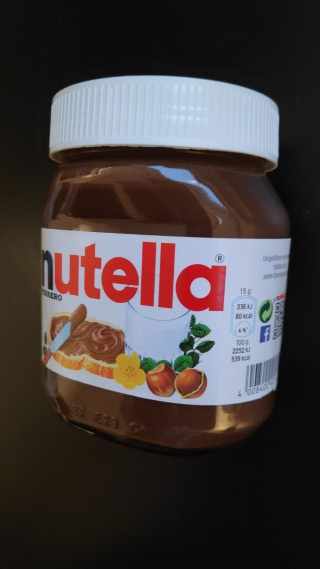nutella: (37, 70, 292, 459)
